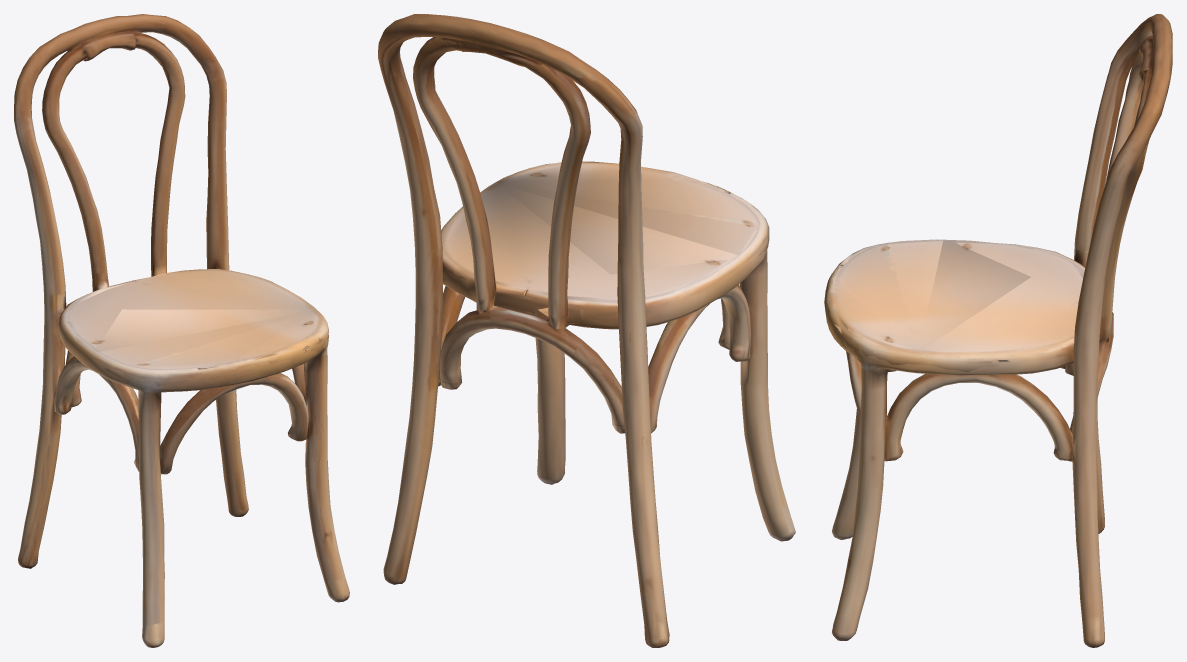
File: BENTWOOD_NATURAL_WOO_0403042609_texture.glb
3 renders of one model, left to right at view 1: azimuth 30°, elevation 25°; view 2: azimuth 150°, elevation 25°; view 3: azimuth 270°, elevation 25°, orthographic. The views are drawn at different scales.
Parts seen in each view (by area): view 1: Mesh_0.001; view 2: Mesh_0.001; view 3: Mesh_0.001.
Part boxes in pixels (x1,y1,x2,y2): Mesh_0.001: [14, 14, 349, 647]; Mesh_0.001: [378, 14, 795, 647]; Mesh_0.001: [824, 14, 1172, 647].
Size of the model in its own units: 0.3889 by 0.8128 by 0.464.
1 material, 1 textured.
